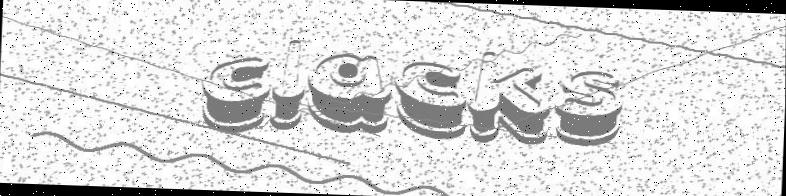a: (304, 48, 395, 136)
c: (393, 55, 471, 142), (196, 48, 272, 136)
k: (467, 47, 553, 149)
l: (267, 35, 312, 133)
s: (550, 65, 627, 152)
